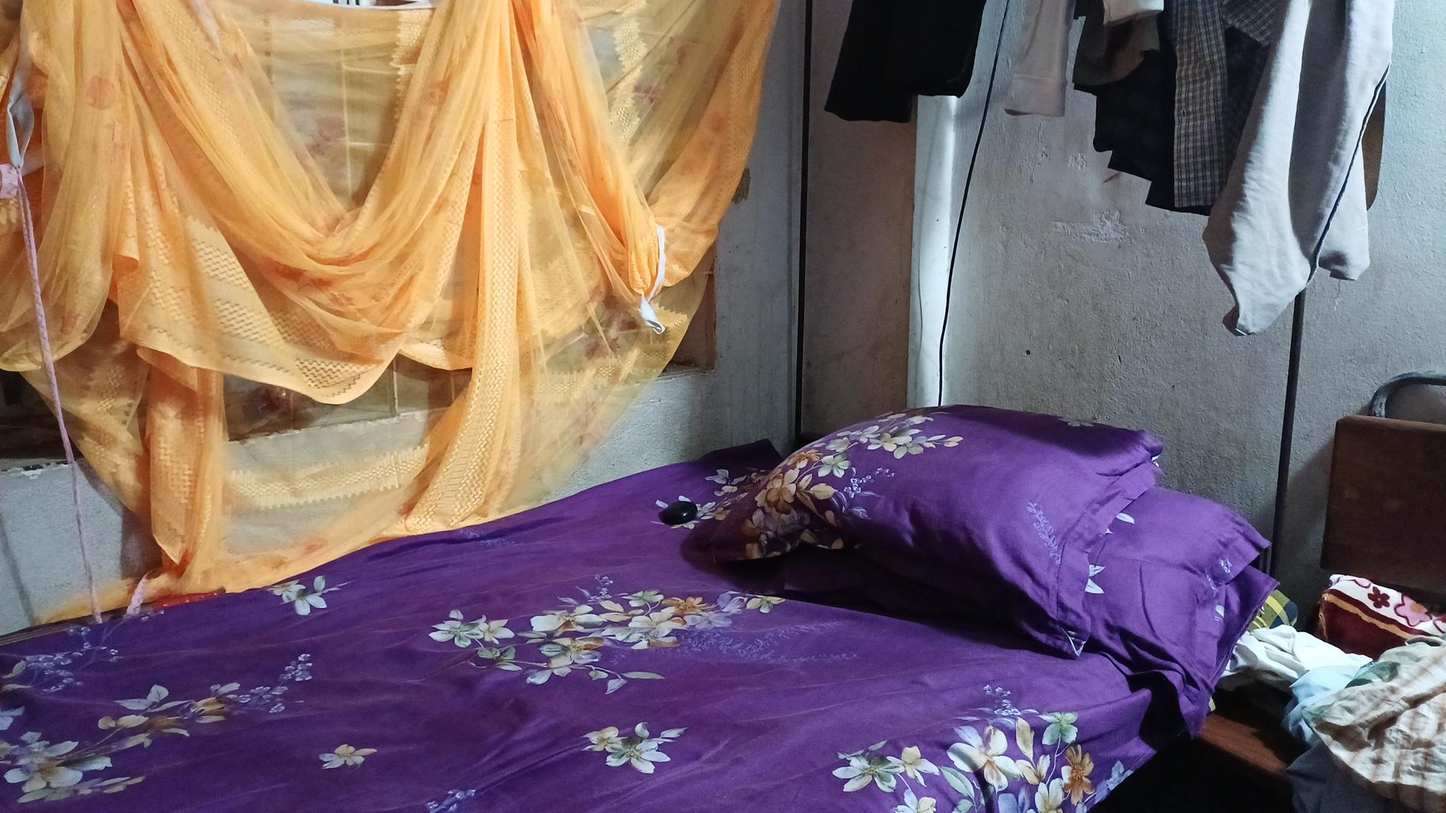Pillow: (776, 367, 1244, 666)
